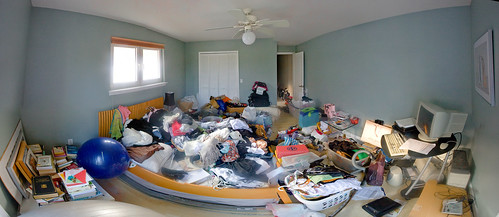door: (278, 52, 290, 102)
trash: (14, 87, 427, 217)
window: (111, 41, 168, 87)
